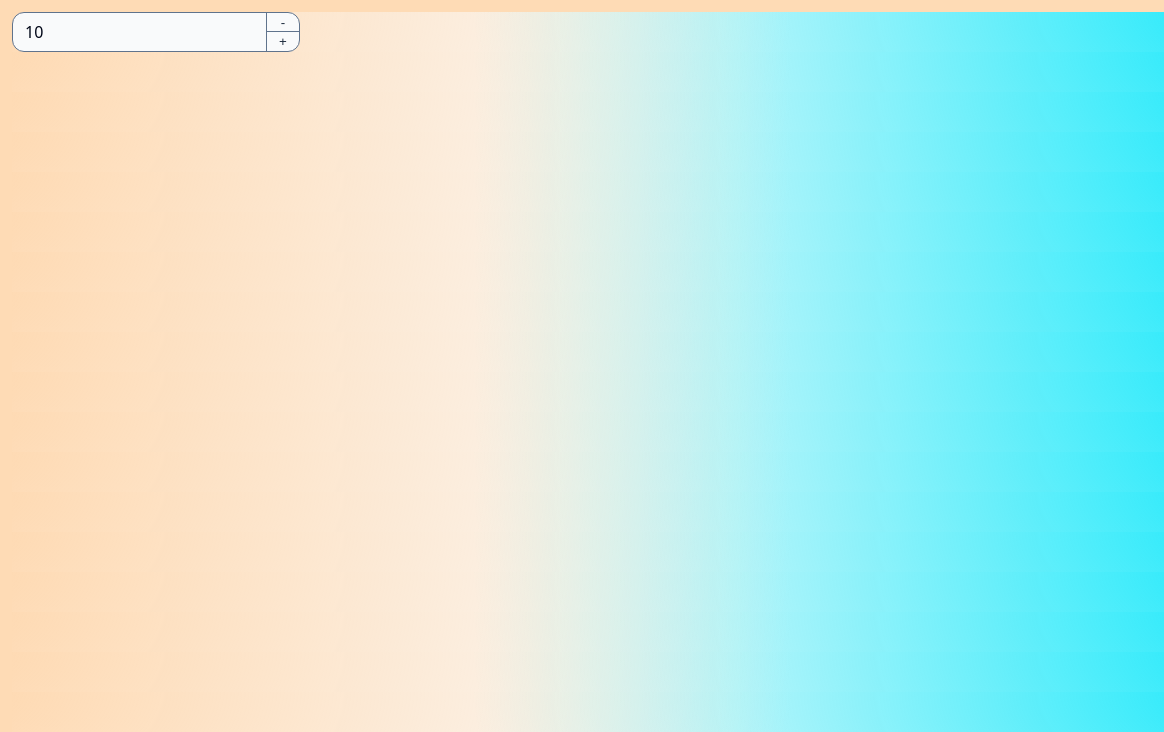
Test: NumberField › кнопки шага › увеличивают и уменьшают на step
Click the button named "Increase value".
click(283, 42)  # box x1=267 y1=32 x2=299 y2=51
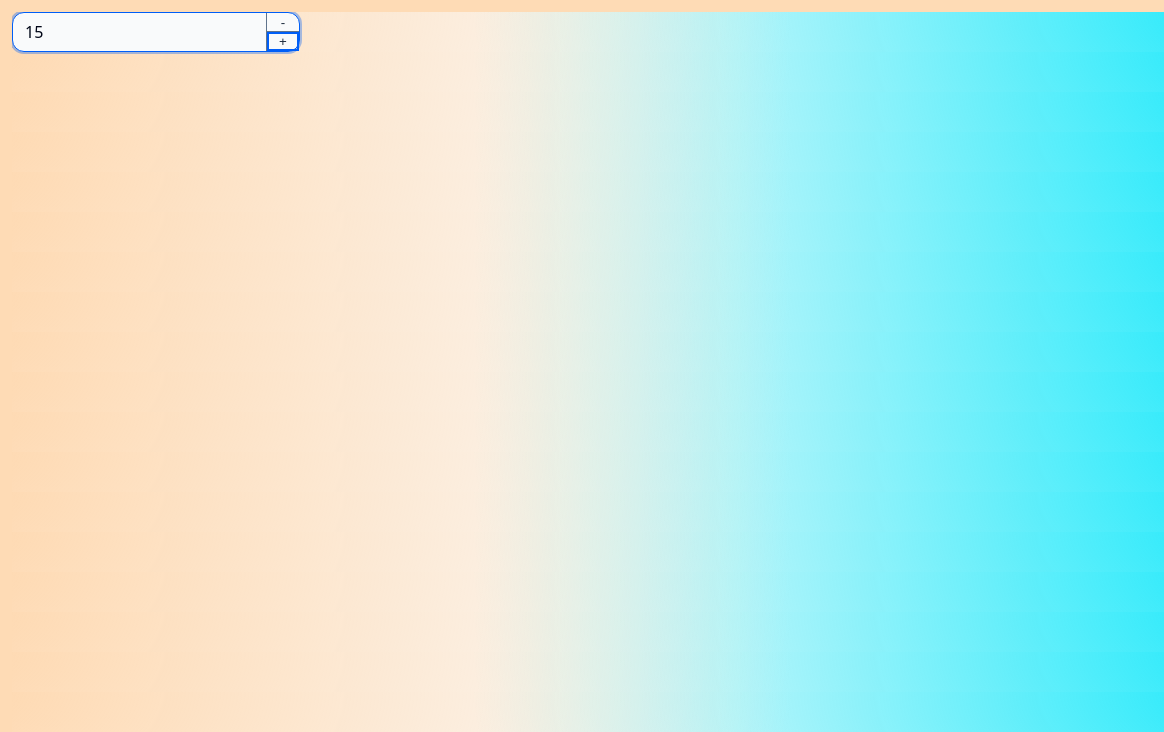
Now the number field named "Qty" holds "15", box x1=13 y1=13 x2=266 y2=51
Click the button named "Decrease value".
click(283, 22)  # box x1=267 y1=13 x2=299 y2=32
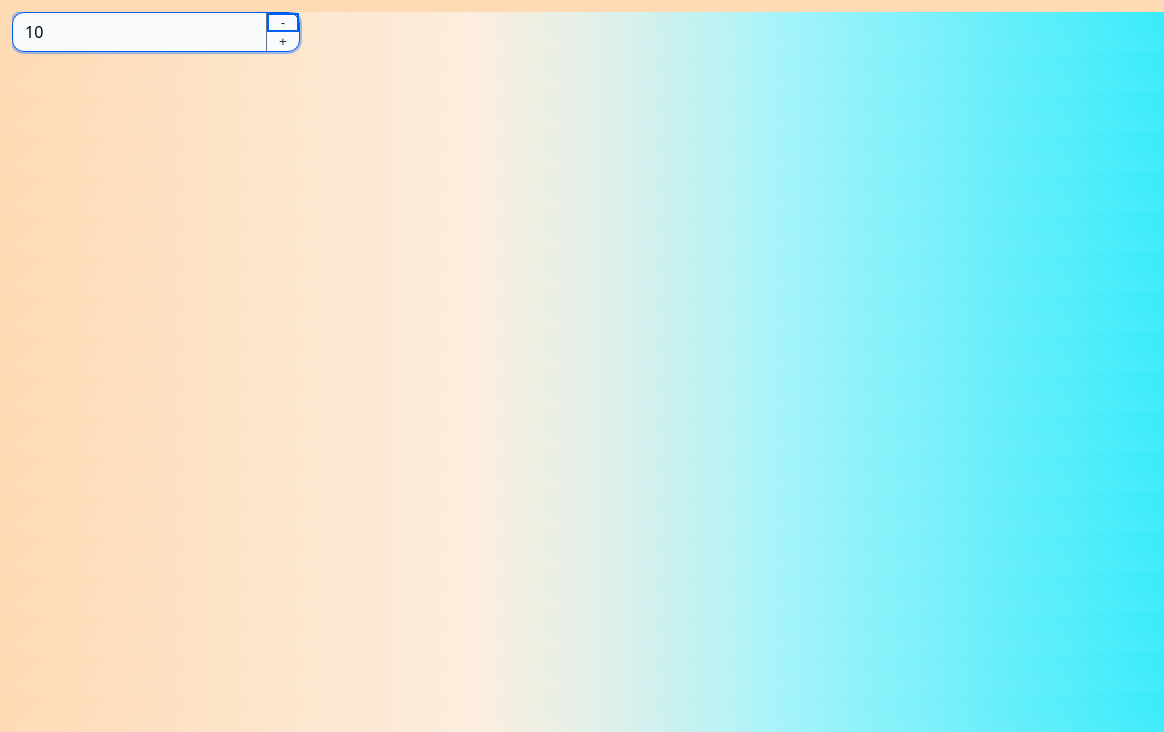
Click the button named "Decrease value".
click(283, 22)  # box x1=267 y1=13 x2=299 y2=32
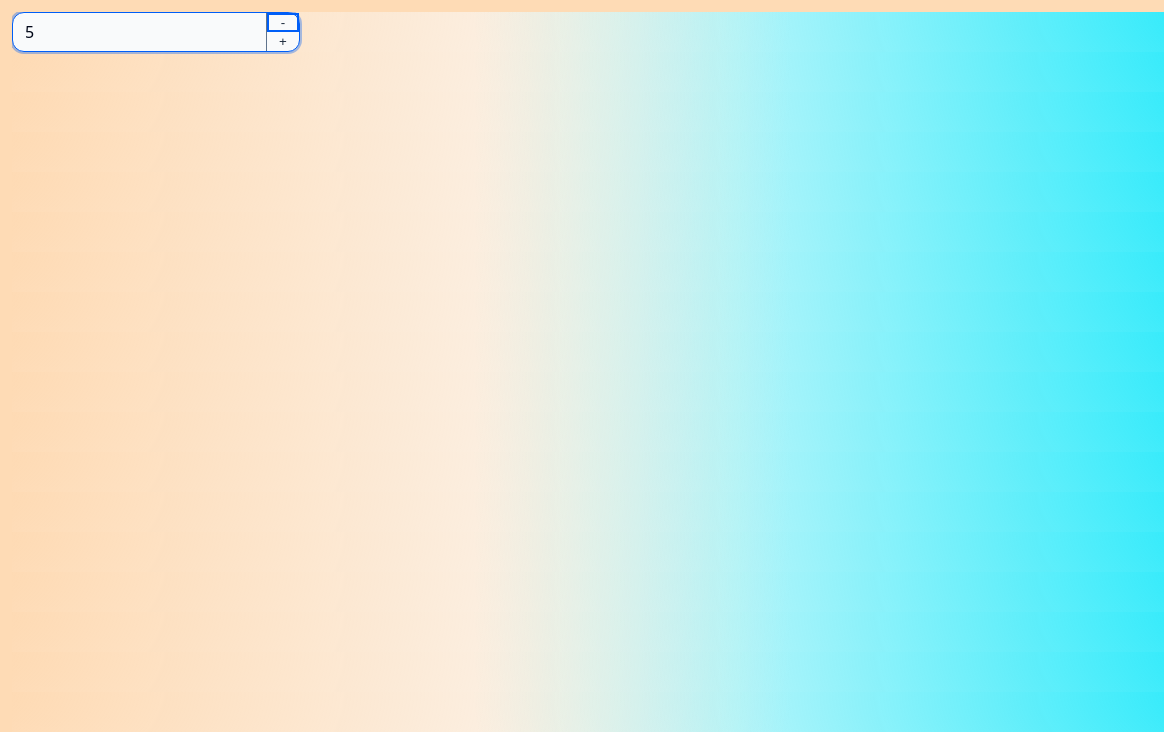
Now the number field named "Qty" holds "5", box x1=13 y1=13 x2=266 y2=51
